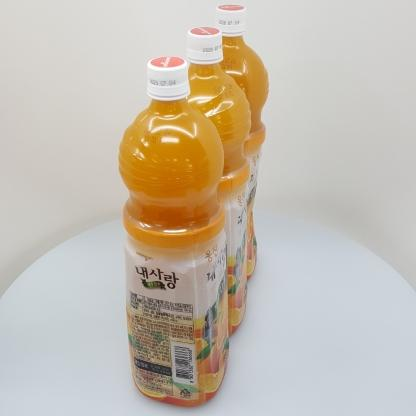----------1-5L: (118, 56, 230, 408)
